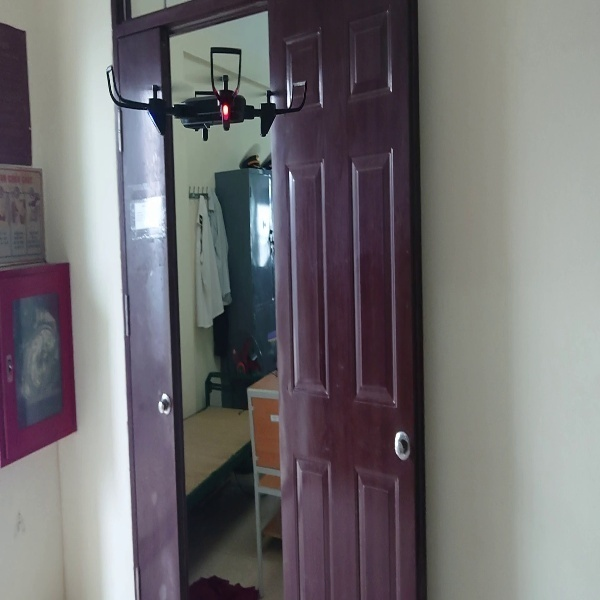drone: (101, 47, 312, 145)
